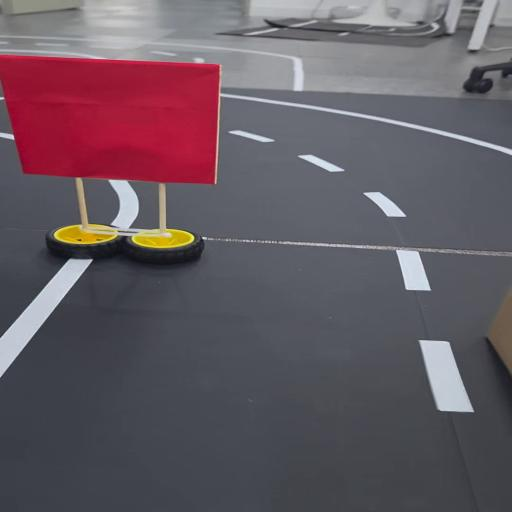Sign_A: (2, 49, 220, 277)
